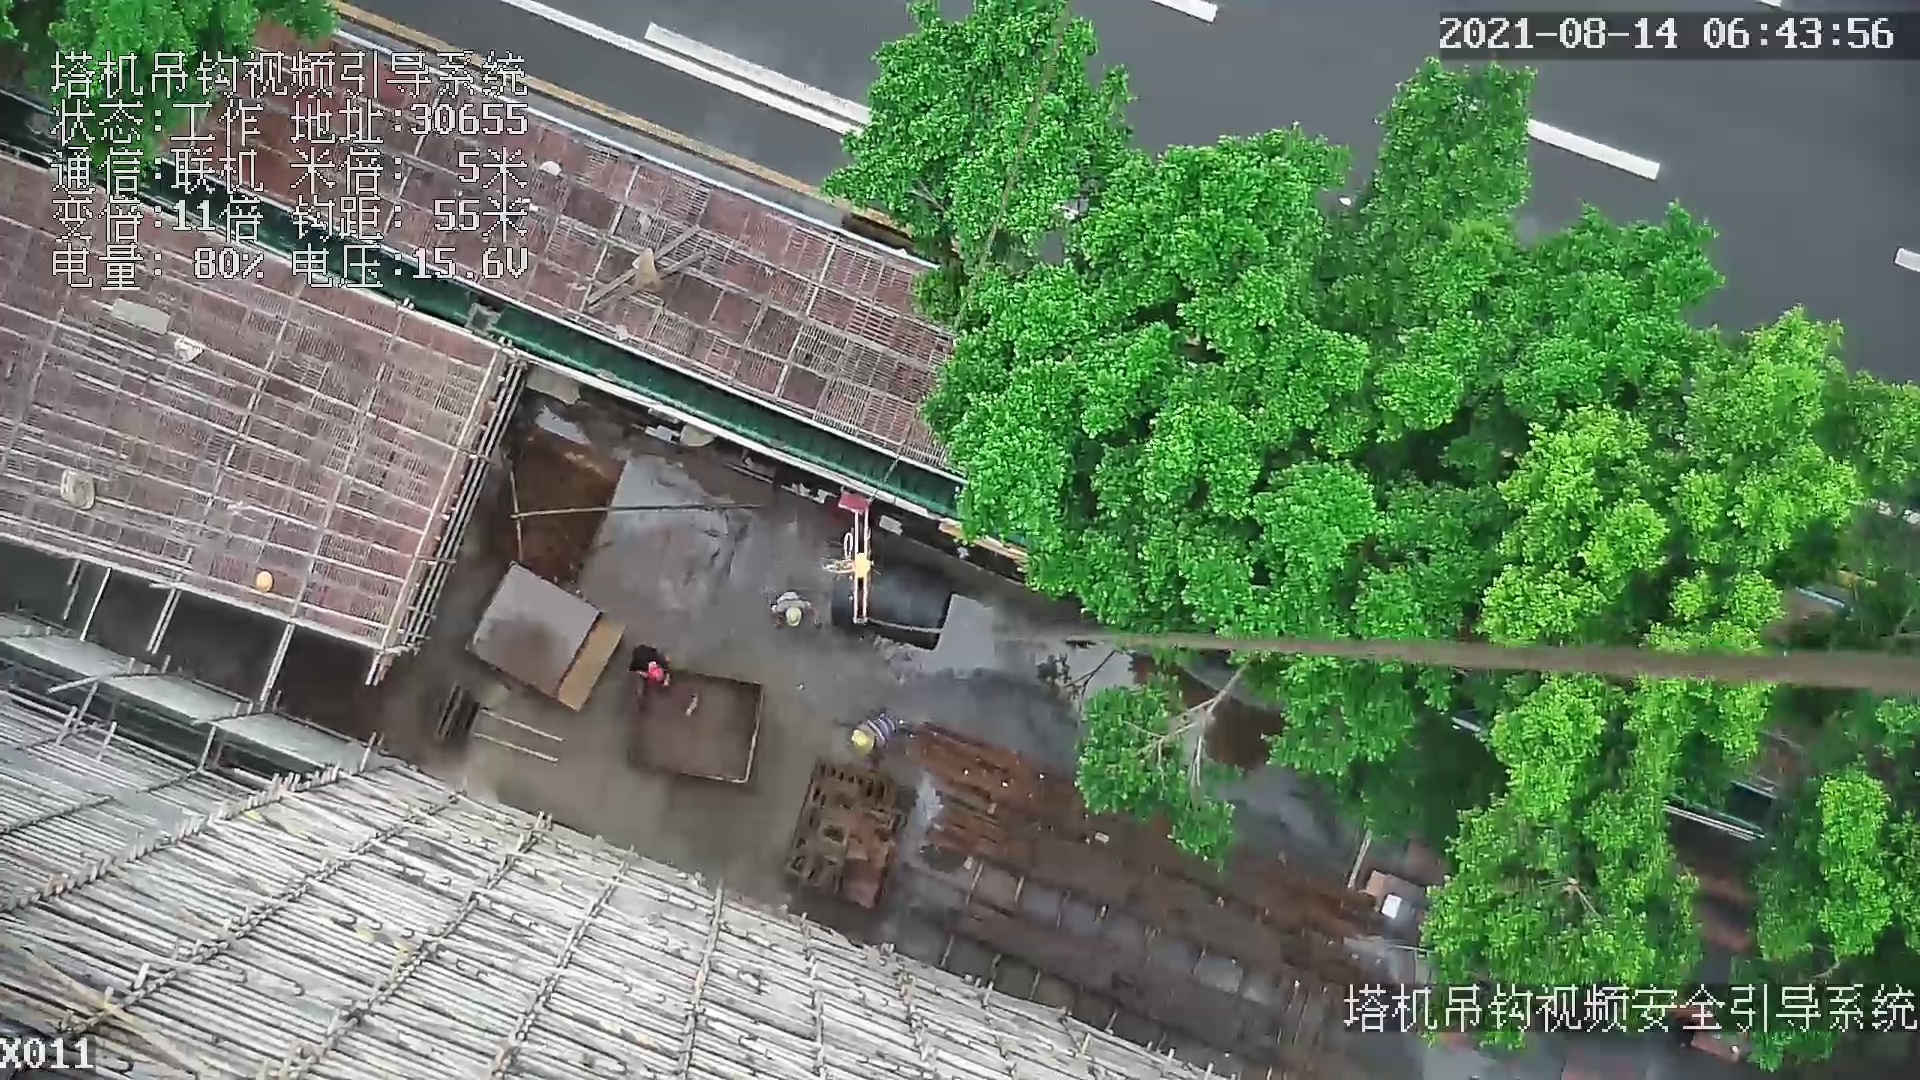helmet: (786, 607, 800, 631), (255, 571, 273, 590), (650, 667, 662, 680)
hook: (840, 503, 874, 630)
person: (845, 705, 906, 767), (769, 587, 819, 638), (632, 640, 679, 694)
